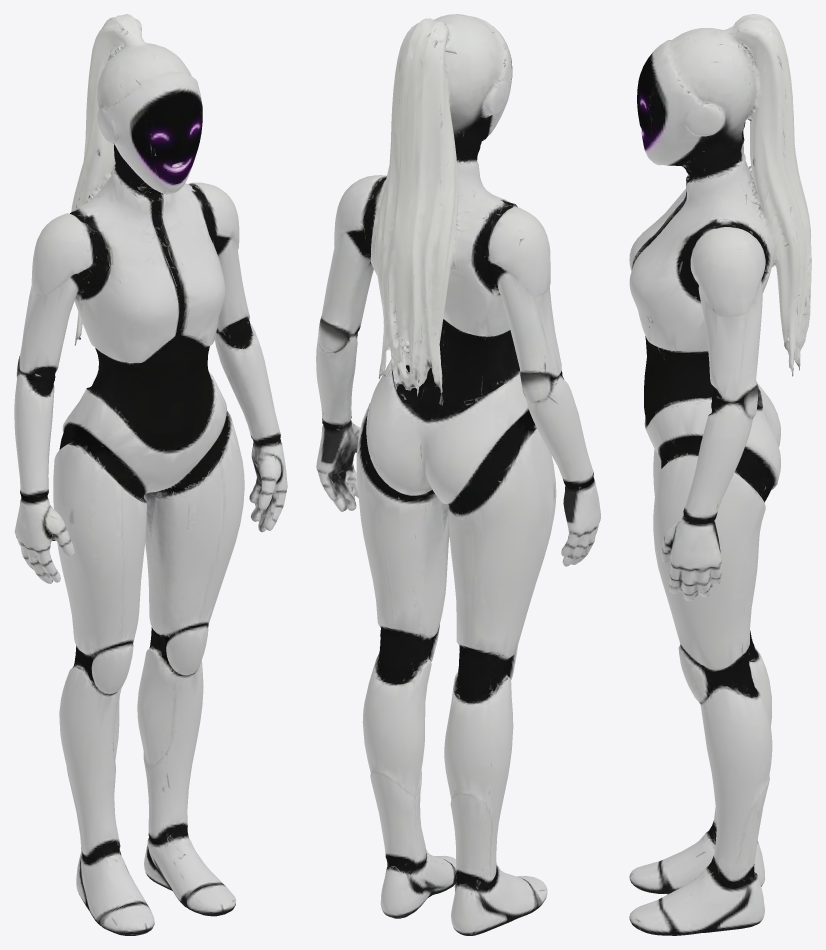
Rendered from robot-a.mobile.glb.
The picture shows the model from 3 angles, left to right: view 1: azimuth 30°, elevation 25°; view 2: azimuth 150°, elevation 25°; view 3: azimuth 270°, elevation 25°; orthographic projection. The views are drawn at different scales.
Visible parts, largest first — view 1: Mesh_0; view 2: Mesh_0; view 3: Mesh_0.
Boxes of the visible parts, x1,y1,x2,y2 form: Mesh_0: (14,14,287,935); Mesh_0: (316,14,600,935); Mesh_0: (629,14,811,935).
Bounding box in the file's own units: 0.5964 × 1.9 × 0.3525.
Materials: 1 (1 with a texture image).
